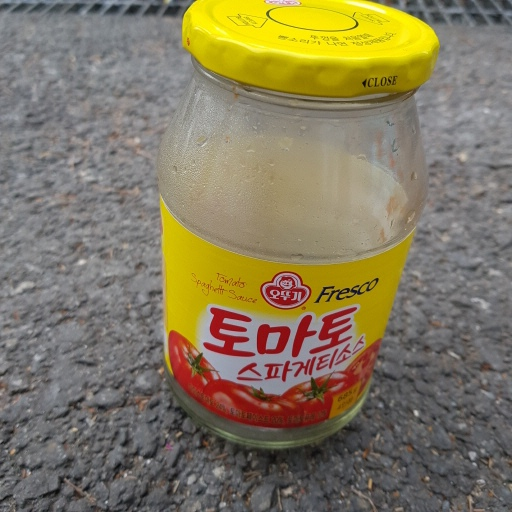Glass_5: (149, 2, 439, 443)
